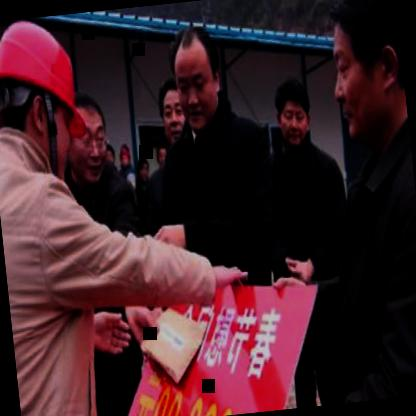helmet: (0, 12, 99, 189)
